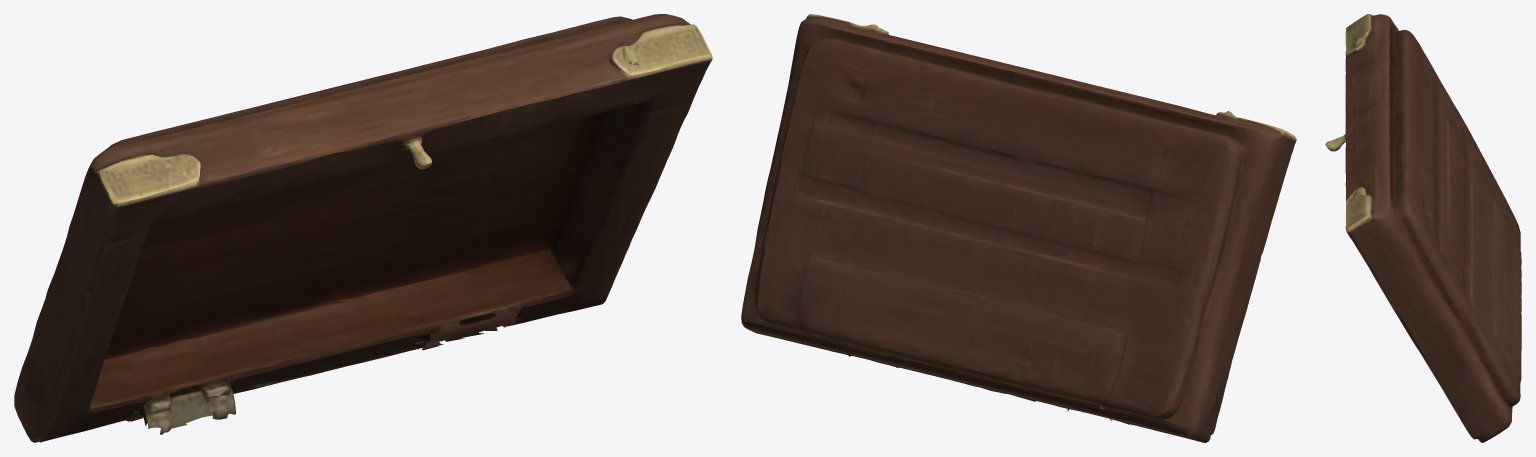
File: lid.glb
3 views of the same model, side by side, from view 1: azimuth 30°, elevation 25°; view 2: azimuth 150°, elevation 25°; view 3: azimuth 270°, elevation 25° (orthographic). The views are drawn at different scales.
Visible parts, largest first — view 1: world; view 2: world; view 3: world.
Part boxes in pixels (<box>): world: <box>14,14,712,442</box>; world: <box>741,14,1296,442</box>; world: <box>1325,14,1521,442</box>.
Size of the model in its own units: 0.2707 by 0.1526 by 0.1101.
1 material, 1 textured.
